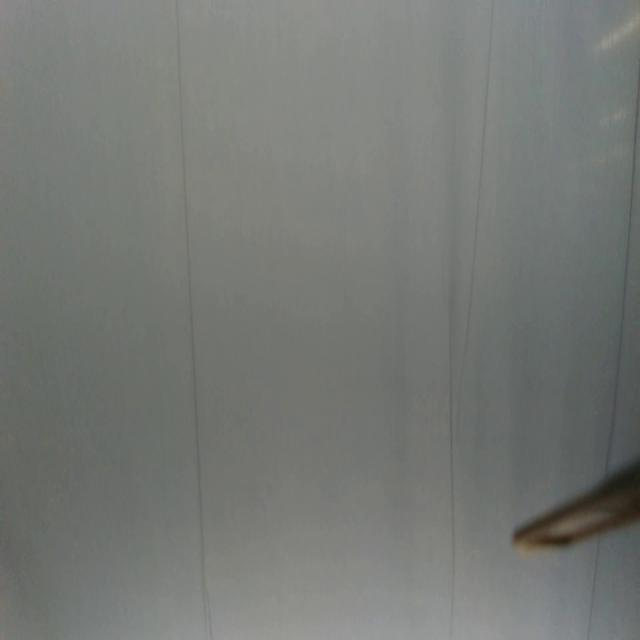crease: (175, 0, 211, 637), (606, 68, 640, 464), (460, 1, 496, 373), (447, 269, 457, 640), (586, 531, 603, 640)
